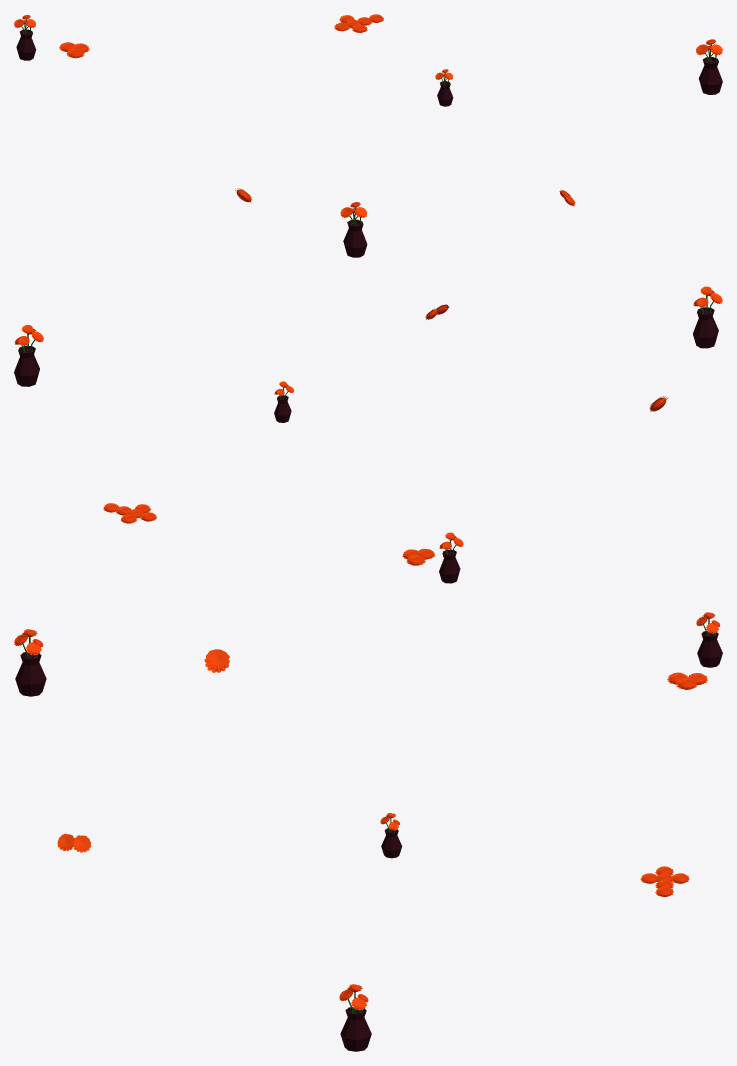
The model's file is florTumba2.obj.
3 views of the same model, one above another, from view 1: azimuth 30°, elevation 25°; view 2: azimuth 150°, elevation 25°; view 3: azimuth 270°, elevation 25° (orthographic). The views are drawn at different scales.
Parts seen in each view (by area): view 1: Cilindro.062, Cilindro.064, Cilindro.066, Cilindro.063; view 2: Cilindro.064, Cilindro.062, Cilindro.066, Cilindro.063; view 3: Cilindro.062, Cilindro.064, Cilindro.066.
Boxes of the visible parts, x1=… form: Cilindro.062: x1=696, y1=39, x2=722, y2=94; Cilindro.064: x1=340, y1=202, x2=367, y2=257; Cilindro.066: x1=14, y1=15, x2=36, y2=60; Cilindro.063: x1=435, y1=69, x2=453, y2=106; Cilindro.064: x1=693, y1=286, x2=722, y2=348; Cilindro.062: x1=14, y1=325, x2=43, y2=386; Cilindro.066: x1=439, y1=532, x2=463, y2=583; Cilindro.063: x1=274, y1=381, x2=294, y2=422; Cilindro.062: x1=339, y1=984, x2=371, y2=1051; Cilindro.064: x1=14, y1=629, x2=46, y2=696; Cilindro.066: x1=696, y1=612, x2=722, y2=667.
Size of the model in its own units: 1.61 by 0.297 by 1.47.
